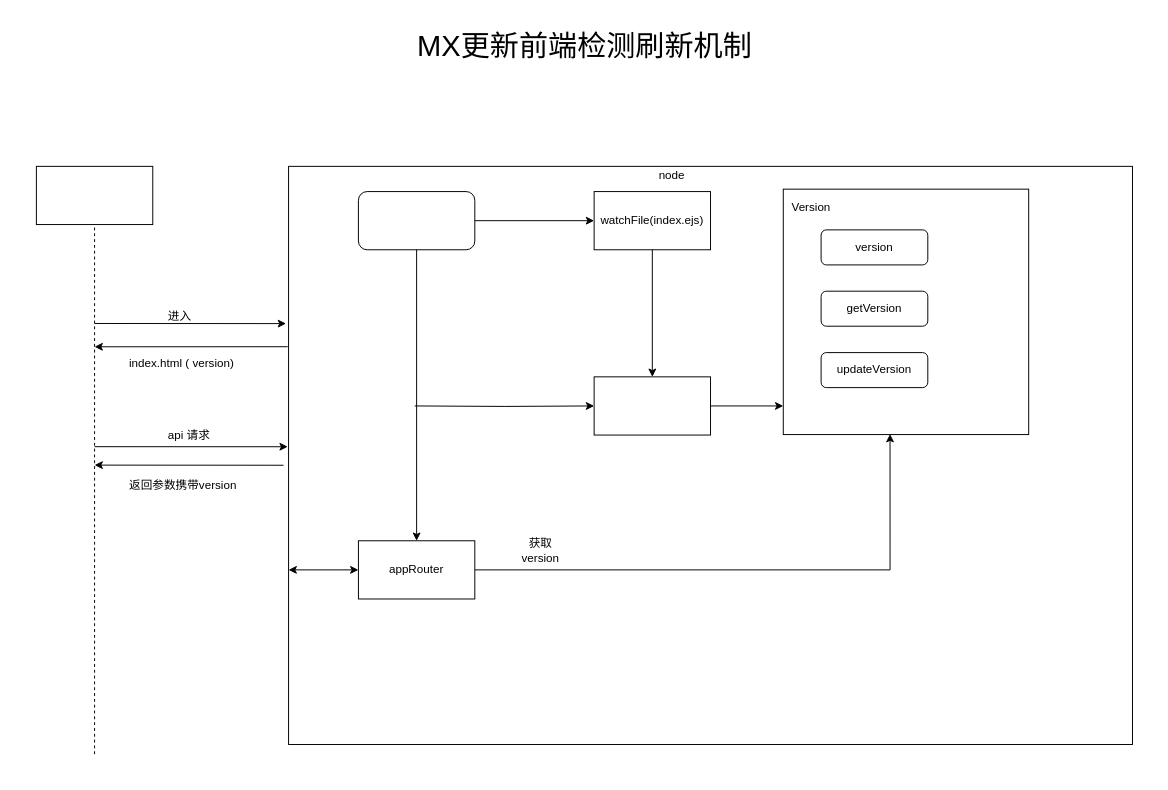
This 1168x790 diagram has some shape labels left out. Each missing label, with the centre of its shape:
"Browser" belongs at point 94,195.
"start" belongs at point 416,220.
"读取文件hash值" belongs at point 652,405.
